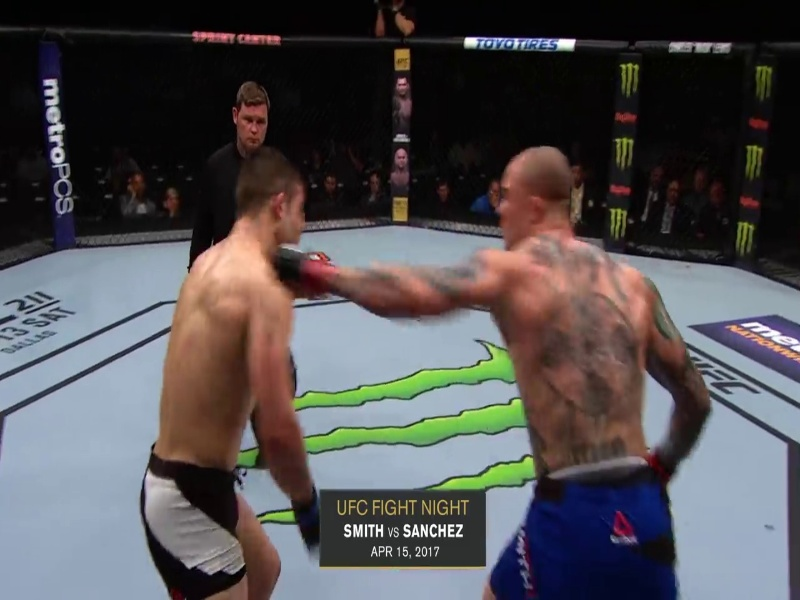fighter: (277, 131, 717, 600), (120, 146, 341, 600)
